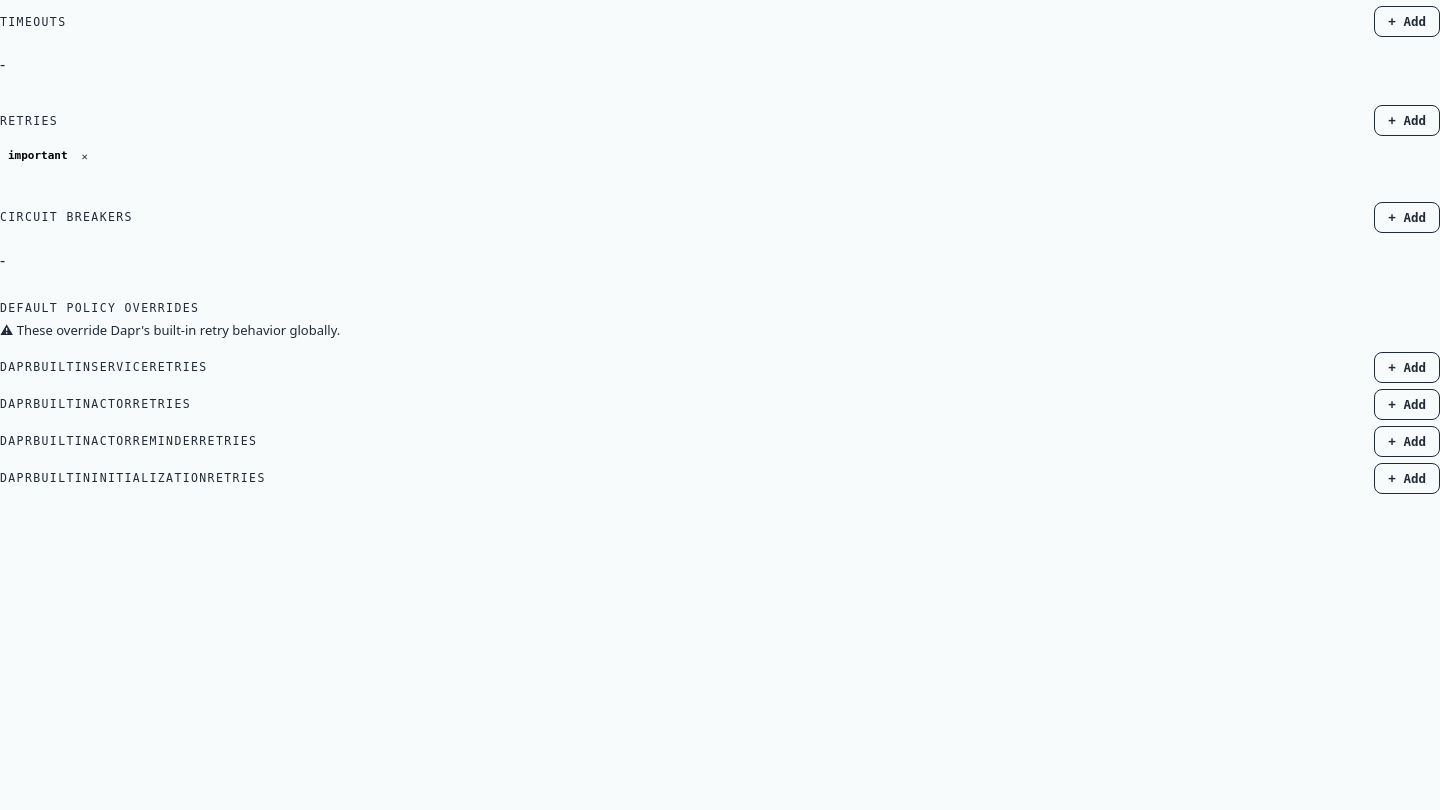
Test: StepPolicies › blocks adding a retry whose name duplicates an existing retry
Click the button with aria-label "add retries" at {"x": 1407, "y": 120}, box [1374,105,1439,136]
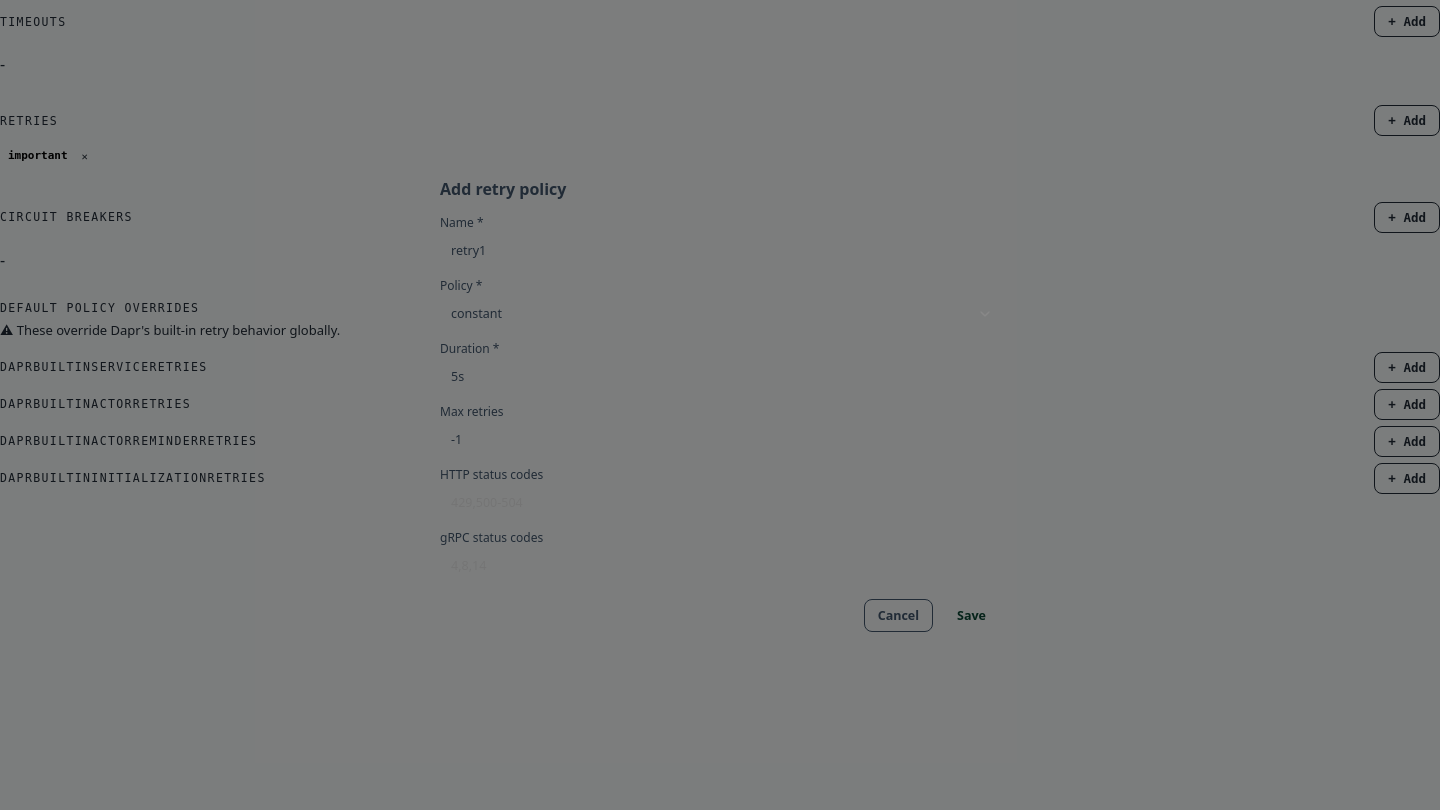
Replace the text in the field named "retry name" with "important" at {"x": 731, "y": 250}, box [440,235,1022,266]
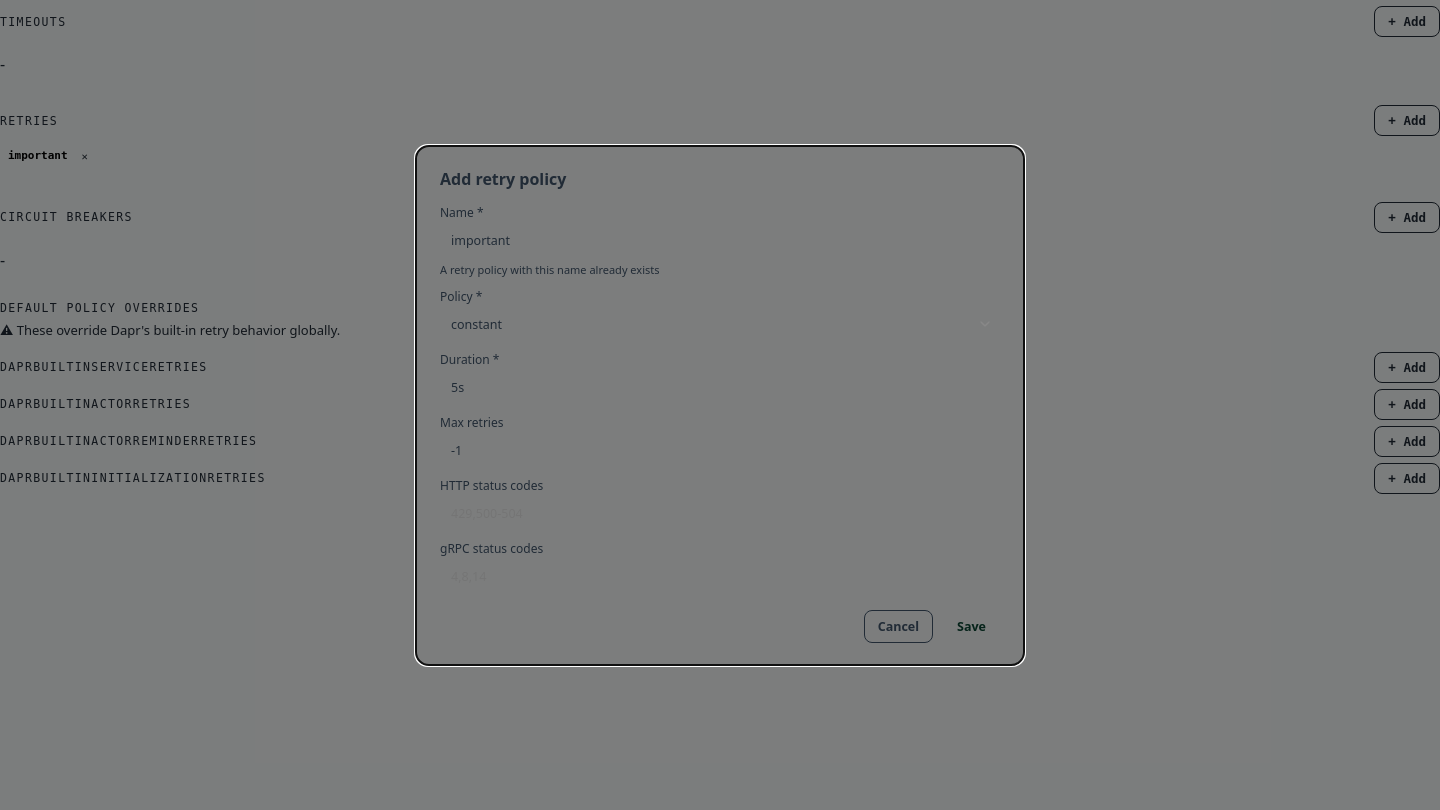
Expected: the text "A retry policy with this name already exists" is shown, [440,262,660,276]
Expected: the button "Save" is disabled, [943,610,1000,642]
